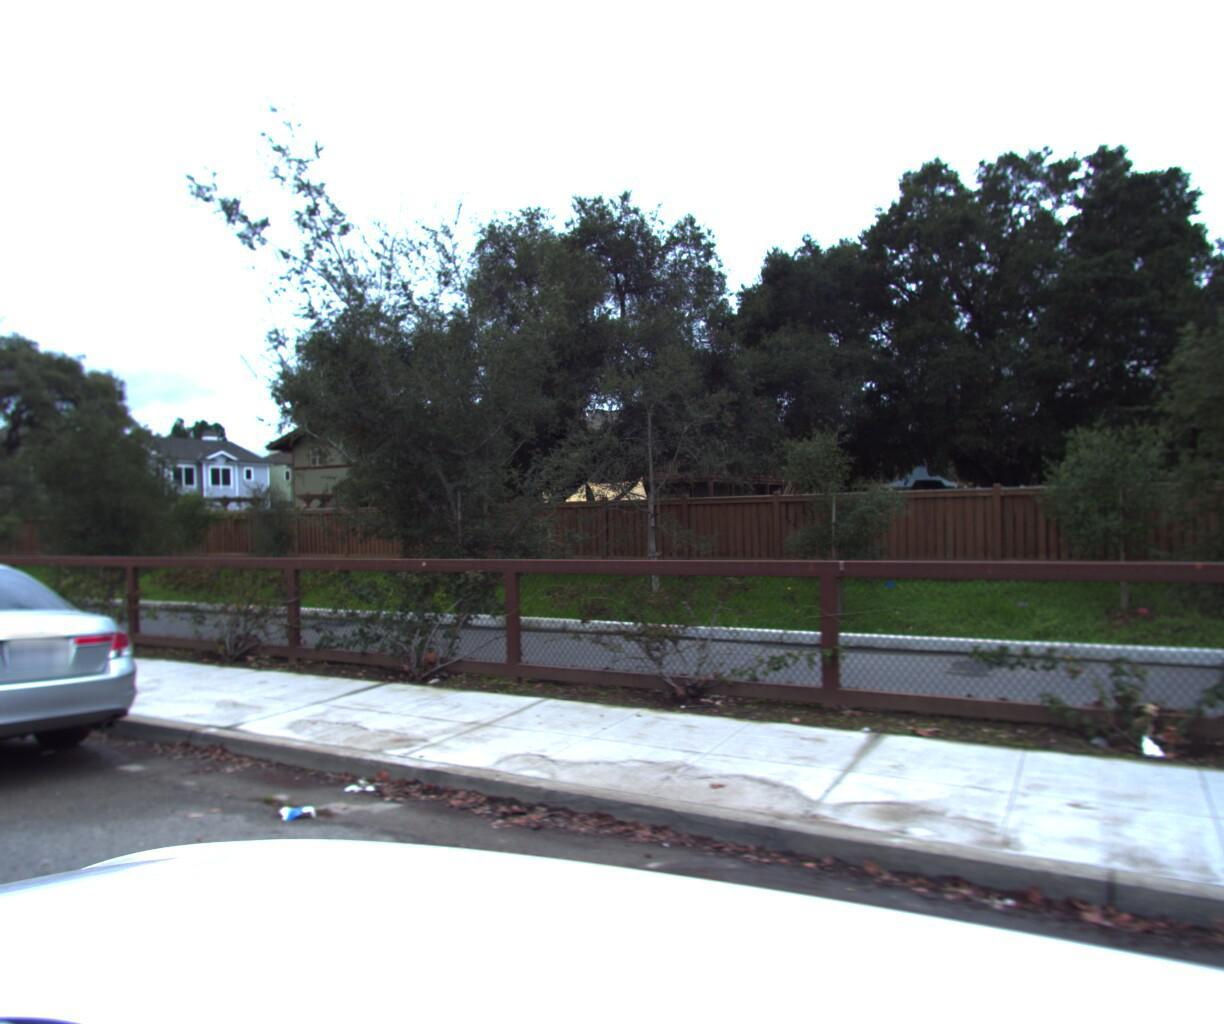car: (0, 548, 157, 840)
